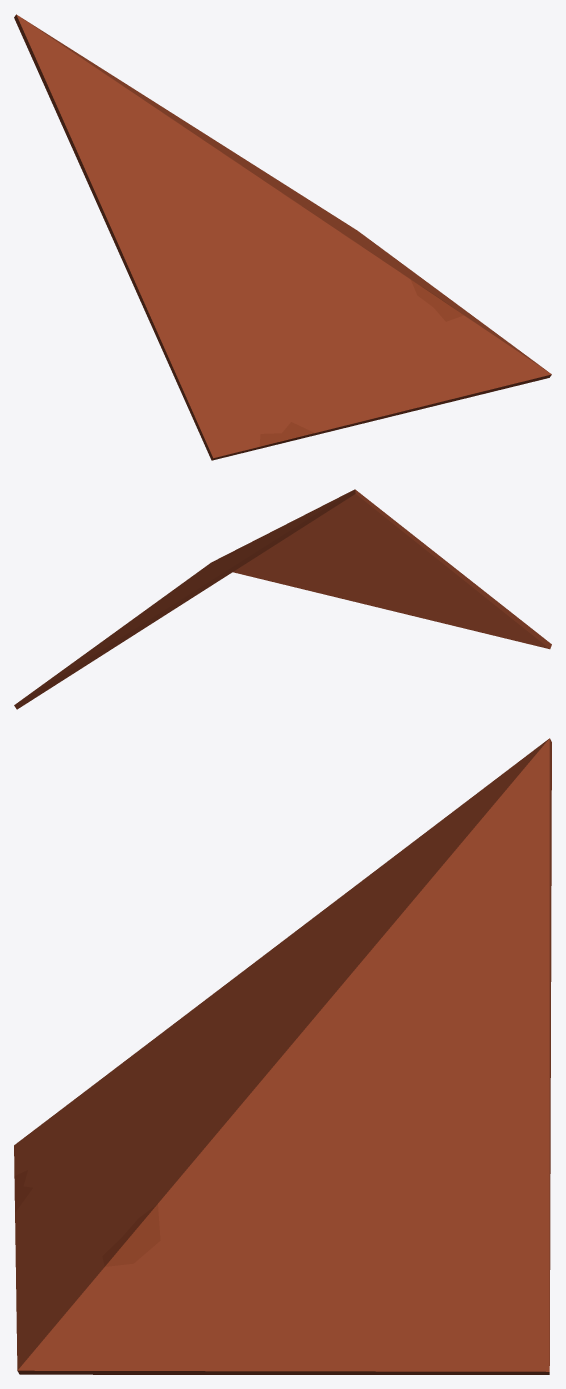
File: Roof_08.fbx
The picture shows the model from 3 angles, top to bottom: view 1: azimuth 30°, elevation 25°; view 2: azimuth 150°, elevation 25°; view 3: azimuth 270°, elevation 25°; orthographic projection. The views are drawn at different scales.
Visible parts, largest first — view 1: Roof_08_LOD0; view 2: Roof_08_LOD0; view 3: Roof_08_LOD0.
Boxes of the visible parts, bbox=[...] form: Roof_08_LOD0: bbox=[14, 14, 551, 460]; Roof_08_LOD0: bbox=[14, 489, 551, 709]; Roof_08_LOD0: bbox=[14, 738, 551, 1374].
Size of what is drawn, in the model's own units: 597 by 505 by 597.
